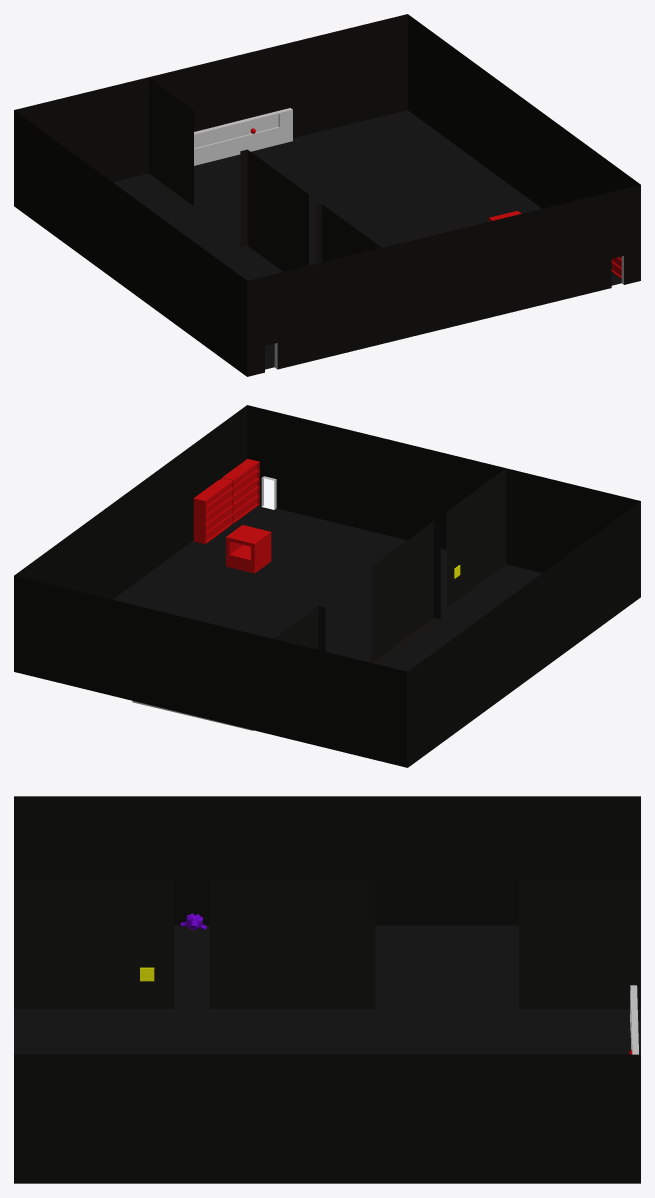
Rendered from todo el mapa.obj.
The picture shows the model from 3 angles, top to bottom: view 1: azimuth 30°, elevation 25°; view 2: azimuth 150°, elevation 25°; view 3: azimuth 270°, elevation 25°; orthographic projection. The views are drawn at different scales.
Visible parts, largest first — view 1: techo, Cube.007, Icosphere; view 2: techo, Cube.007, Cube.006, Cube.002; view 3: techo, Cube.007, Icosphere.
Part boxes in pixels (left/top/right/bottom): techo: left=14, top=14, right=640, bottom=376; Cube.007: left=142, top=77, right=381, bottom=271; Icosphere: left=194, top=108, right=292, bottom=165; techo: left=14, top=405, right=640, bottom=767; Cube.007: left=273, top=468, right=513, bottom=664; Cube.006: left=193, top=459, right=259, bottom=544; Cube.002: left=226, top=525, right=271, bottom=573; techo: left=14, top=796, right=640, bottom=1183; Cube.007: left=14, top=879, right=640, bottom=1013; Icosphere: left=630, top=985, right=638, bottom=1054.
Bounding box in the file's own units: 27.29 × 6.51 × 27.99.
